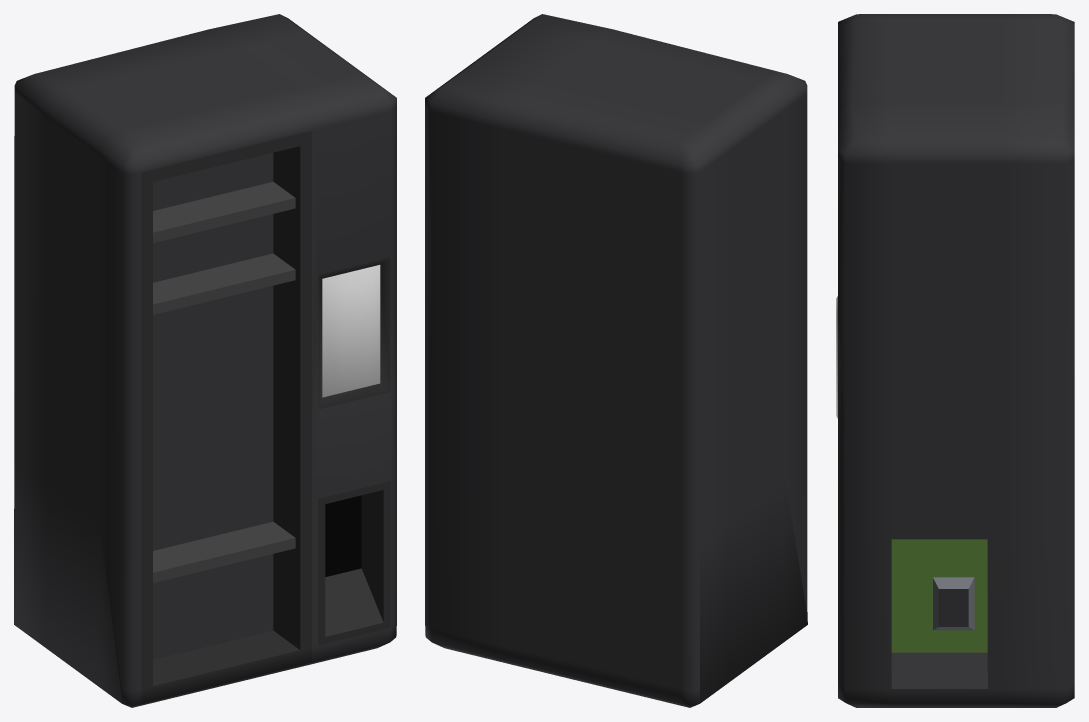
File: BoozeOMat.glb
3 views of the same model, side by side, from view 1: azimuth 30°, elevation 25°; view 2: azimuth 150°, elevation 25°; view 3: azimuth 270°, elevation 25° (orthographic).
Visible parts, largest first — view 1: BoozeOMat; view 2: BoozeOMat; view 3: BoozeOMat.
Part boxes in pixels (x1,y1,x2,y2): BoozeOMat: (14, 14, 396, 707); BoozeOMat: (425, 14, 807, 707); BoozeOMat: (836, 14, 1074, 707).
Bounding box in the file's own units: 0.896 × 1.75 × 0.6615.
2 materials, 1 textured.
